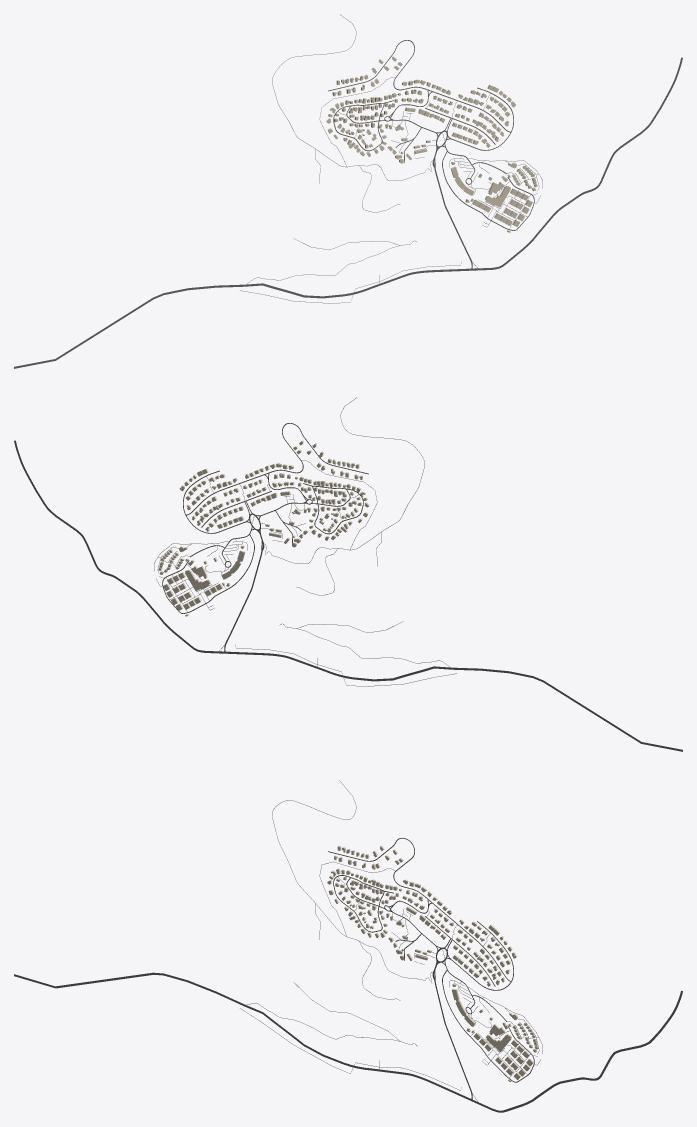
Rendered from historic-palestine-09_23_3506_3179.glb.
3 views of the same model, one above another, from view 1: azimuth 30°, elevation 25°; view 2: azimuth 150°, elevation 25°; view 3: azimuth 330°, elevation 25° (orthographic).
Visible parts, largest first — view 1: Road 3955; view 2: Road 3955; view 3: Road 3955.
Part boxes in pixels (box(x1,y1,x2,y2)): Road 3955: box(14, 57, 682, 368); Road 3955: box(14, 440, 682, 751); Road 3955: box(14, 972, 682, 1112).
Bounding box in the file's own units: 2700 × 1132 × 8.7.
